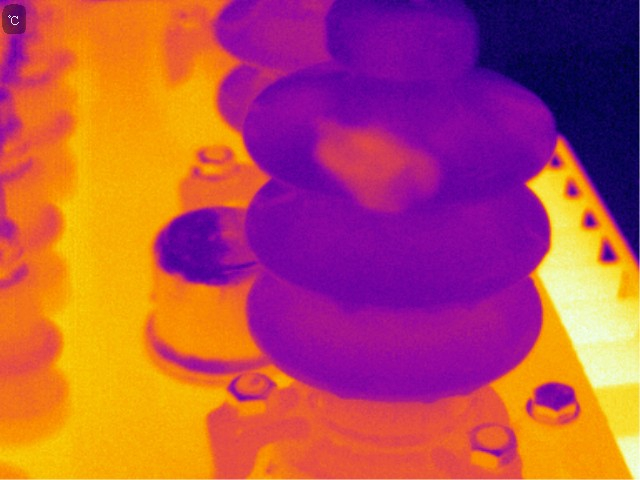Oil: (301, 111, 451, 223), (493, 92, 546, 152)
